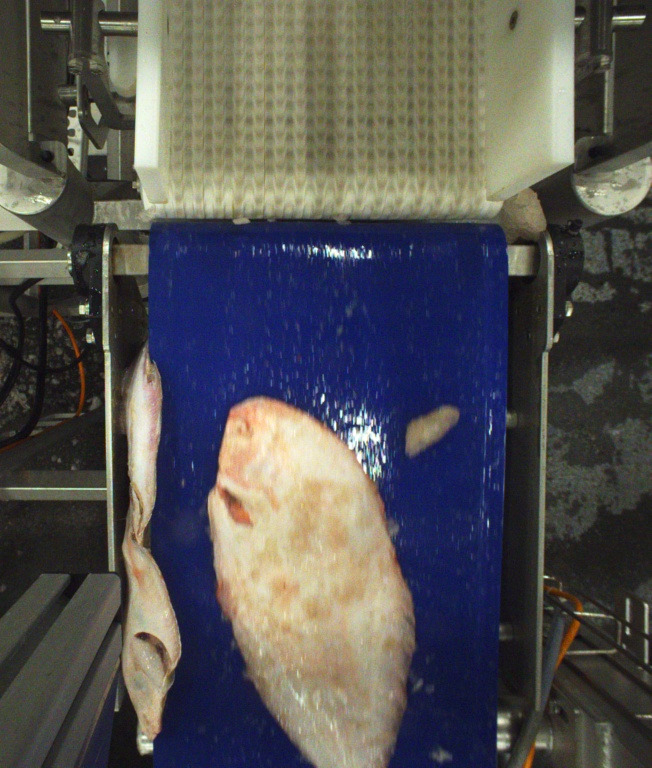SOL: (212, 397, 412, 768)
